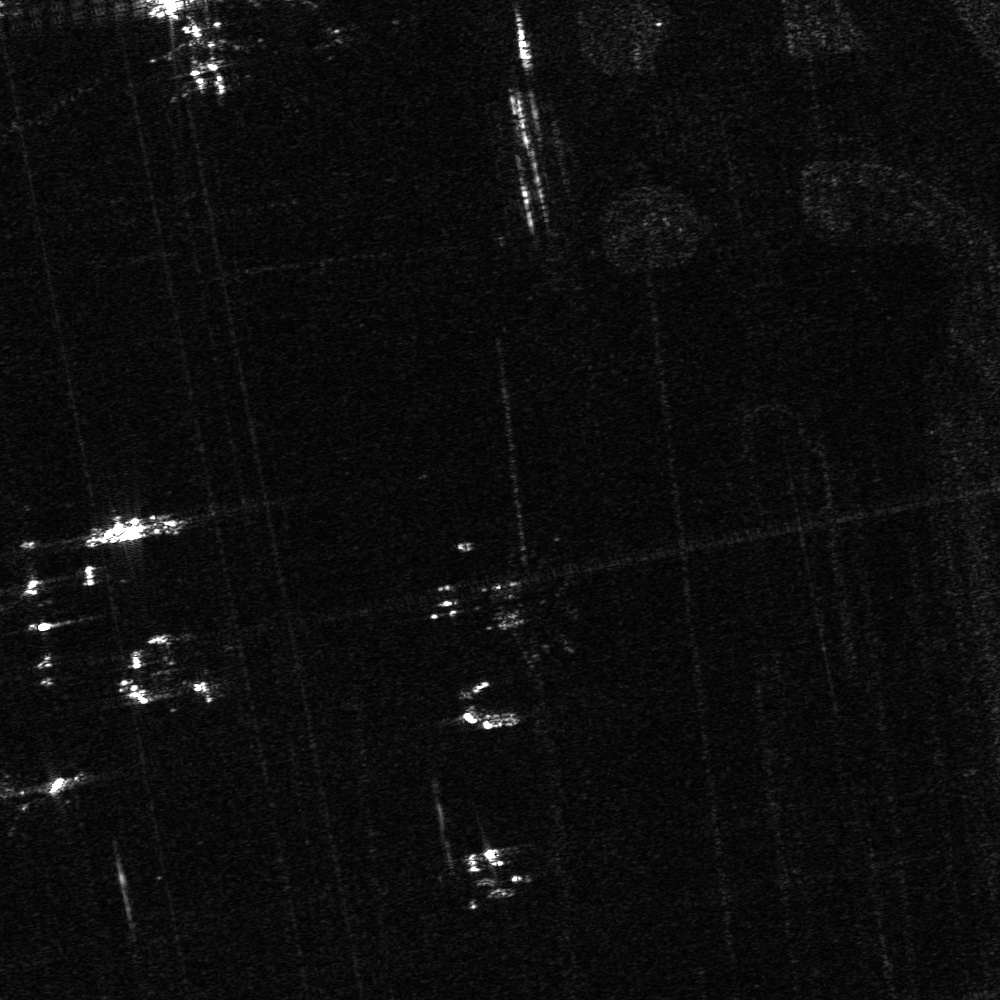Boeing737: (151, 21, 256, 103)
